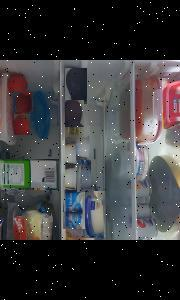Aguacate: (63, 68, 86, 104), (64, 100, 83, 127)
Leche: (0, 159, 58, 190)
Mantequilla: (161, 78, 180, 129)
Queso: (2, 195, 52, 240)
Tomate: (7, 74, 27, 96), (12, 92, 32, 112), (13, 114, 29, 135)
Yogur: (62, 190, 84, 212), (62, 212, 84, 229)
